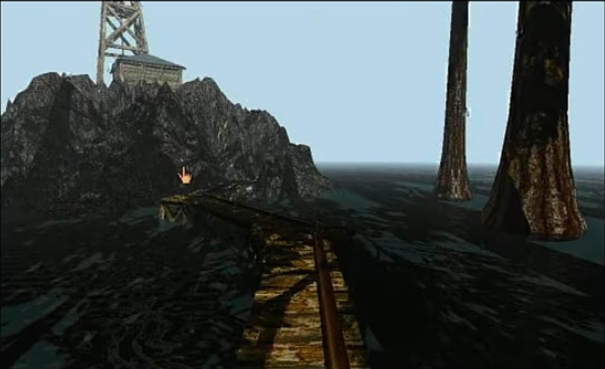Pointer: (174, 164, 196, 186)
